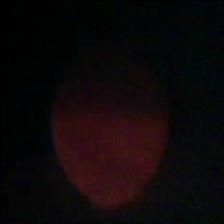fertile: (45, 36, 172, 212)
